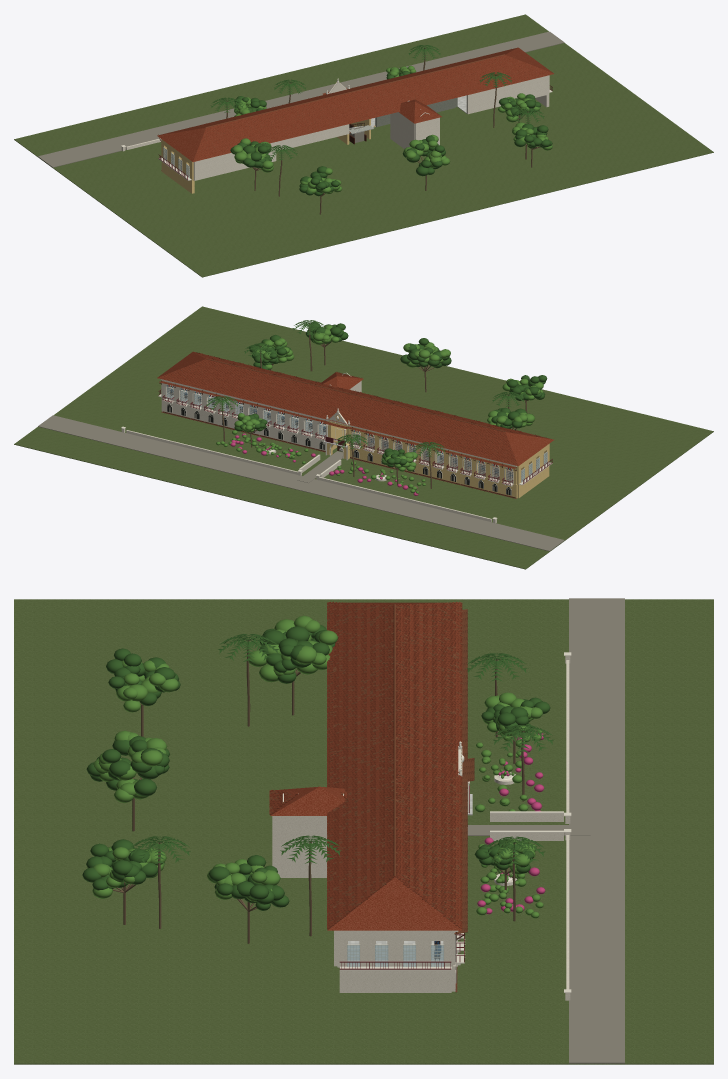
Rendered from Braganza-House-Chandor.glb.
3 renders of one model, top to bottom at view 1: azimuth 30°, elevation 25°; view 2: azimuth 150°, elevation 25°; view 3: azimuth 270°, elevation 25°, orthographic. The views are drawn at different scales.
Visible parts, largest first — view 1: Grounds_39, Roof_37, Grounds_40, Grounds_44, Architecture_1, Grounds_45, Roof_38, Interiors_31, Architecture_2, Grounds_43, Architecture_8; view 2: Grounds_39, Roof_37, Grounds_40, Grounds_44, Architecture_2, Grounds_45, Architecture_5, Architecture_1, Architecture_4, Architecture_3, Grounds_41, Roof_38 (+8 smaller); view 3: Grounds_39, Roof_37, Grounds_40, Grounds_44, Roof_38, Grounds_45, Architecture_1, Interiors_31, Grounds_41, Grounds_43, Grounds_46, Architecture_4 (+3 smaller).
Boxes of the visible parts, x1,y1,x2,y2 form: Grounds_39: [14, 14, 713, 277]; Roof_37: [157, 47, 553, 161]; Grounds_40: [38, 31, 564, 167]; Grounds_44: [210, 45, 552, 196]; Architecture_1: [193, 75, 549, 180]; Grounds_45: [232, 65, 552, 194]; Roof_38: [158, 54, 546, 159]; Interiors_31: [390, 112, 439, 148]; Architecture_2: [161, 119, 370, 193]; Grounds_43: [226, 48, 540, 214]; Architecture_8: [375, 97, 457, 126]; Grounds_39: [14, 306, 713, 569]; Roof_37: [157, 351, 554, 468]; Grounds_40: [38, 415, 564, 551]; Grounds_44: [206, 320, 547, 468]; Architecture_2: [327, 420, 549, 498]; Grounds_45: [216, 325, 543, 493]; Architecture_5: [158, 379, 552, 495]; Architecture_1: [161, 380, 544, 462]; Architecture_4: [166, 387, 547, 482]; Architecture_3: [166, 385, 547, 483]; Grounds_41: [121, 428, 496, 523]; Roof_38: [159, 355, 546, 467]; Grounds_39: [14, 599, 713, 1064]; Roof_37: [269, 601, 473, 934]; Grounds_40: [467, 598, 624, 1063]; Grounds_44: [82, 625, 554, 910]; Roof_38: [269, 601, 474, 934]; Grounds_45: [92, 615, 543, 918]; Architecture_1: [334, 749, 460, 992]; Interiors_31: [272, 816, 326, 877]; Grounds_41: [490, 656, 570, 1000]; Grounds_43: [112, 640, 524, 943]; Grounds_46: [477, 733, 545, 914]; Architecture_4: [347, 945, 443, 966].
Bounding box in the file's own units: 124 × 12.26 × 78.99.
Materials: 35 (14 with a texture image).
